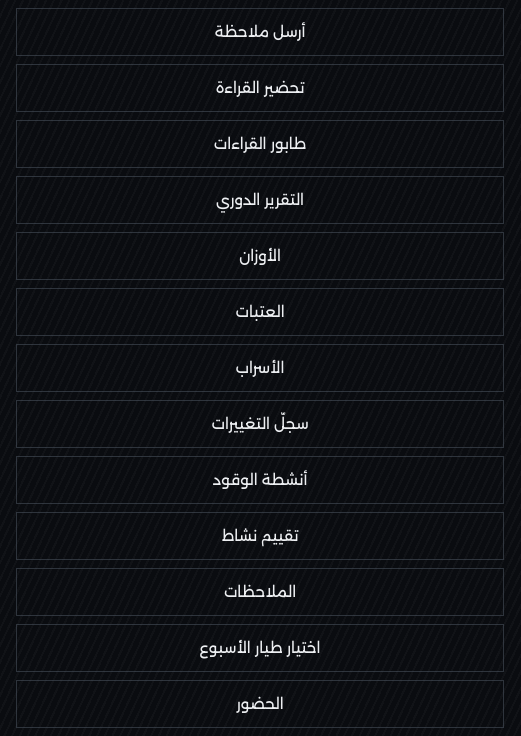
Test case: نافذة المشرف — و-٧ › الأسراب: تعرض السرب القائم وعدد أعضائه
(page scrolled)
Click the button "الأسراب". click: (260, 368)
box: [16,344,504,392]
(page scrolled)
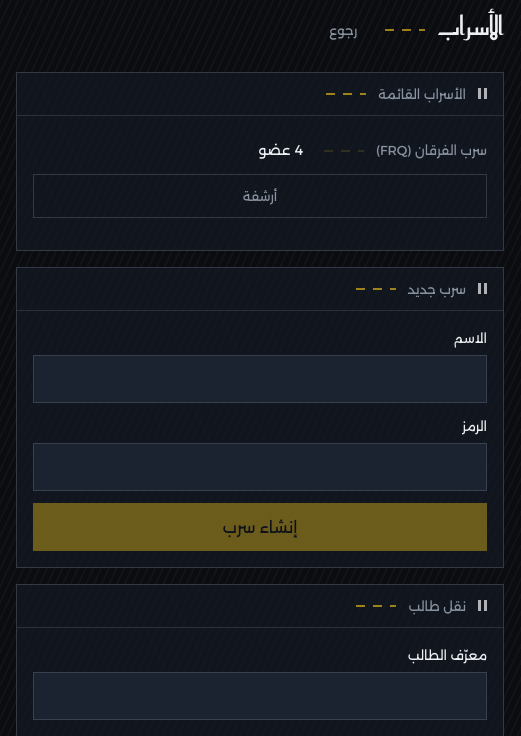
Expected: the text "سرب الفرقان (FRQ)" is shown, [376,139,487,161]
Expected: the text "4 عضو" is shown, [258,139,304,163]
